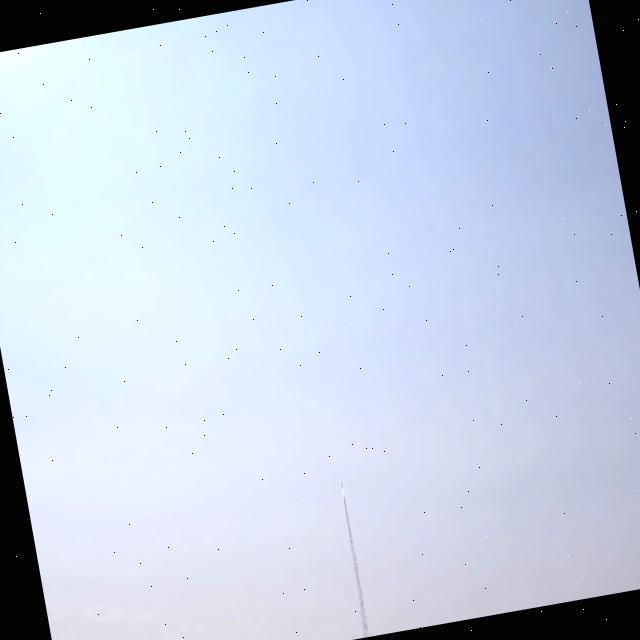smoke_trail_with_rocket: (340, 481, 369, 638)
